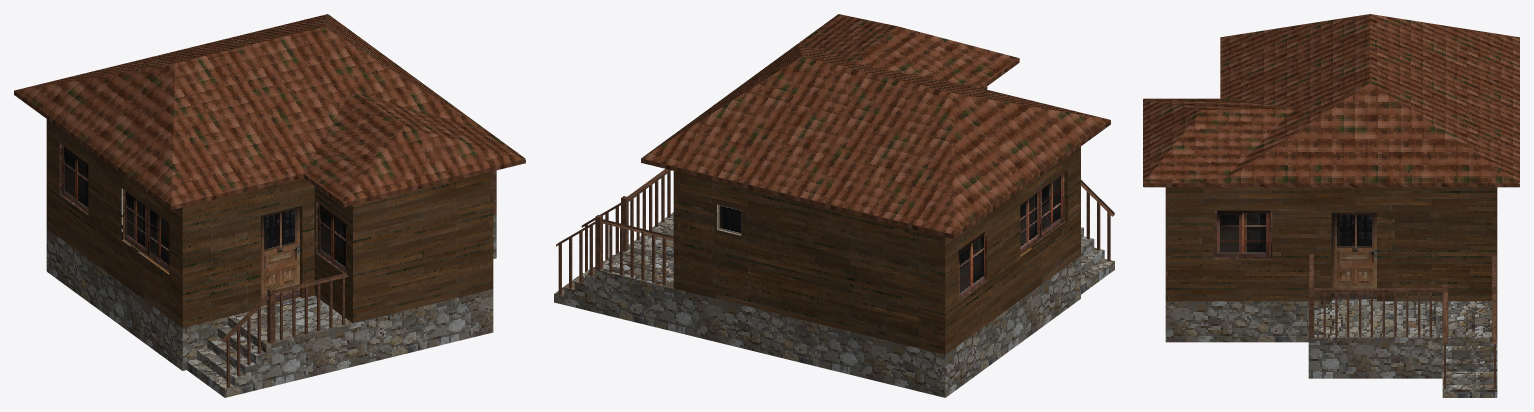
File: house5.glb
3 renders of one model, left to right at view 1: azimuth 30°, elevation 25°; view 2: azimuth 150°, elevation 25°; view 3: azimuth 270°, elevation 25°, orthographic. The views are drawn at different scales.
Parts seen in each view (by area): view 1: house52, house5_windows, house5_door1; view 2: house52, house5_windows; view 3: house52, house5_door2, house5_windows.
Part boxes in pixels (x1,y1,x2,y2): house52: [14, 14, 525, 397]; house5_windows: [59, 143, 346, 274]; house5_door1: [261, 206, 299, 305]; house52: [554, 14, 1114, 397]; house5_windows: [716, 171, 1066, 301]; house52: [1143, 14, 1519, 397]; house5_door2: [1331, 212, 1376, 299]; house5_windows: [1213, 210, 1272, 259].
Bounding box in the file's own units: 10 × 5.6 × 8.3.
Materials: 6 (6 with a texture image).
